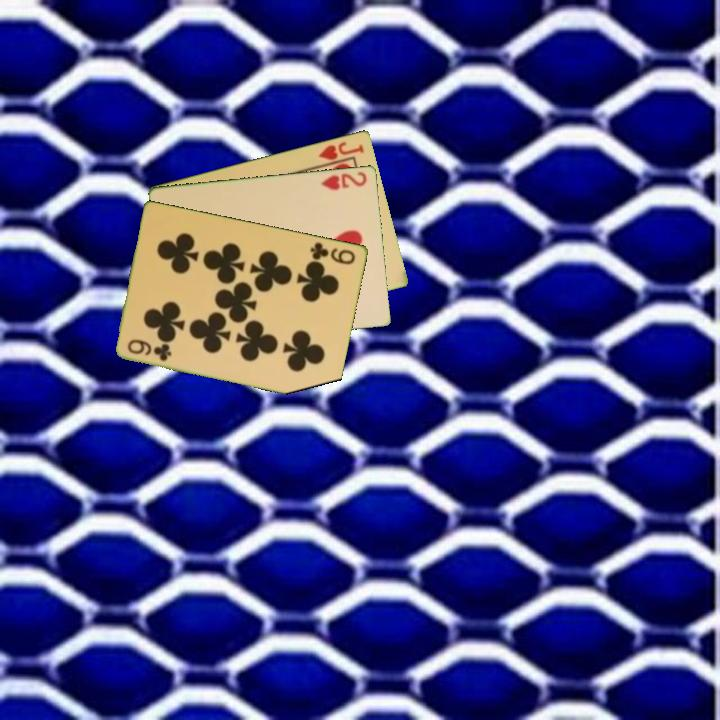2h: (318, 168, 370, 193)
9c: (307, 238, 358, 267), (124, 335, 174, 364)
Jh: (315, 138, 367, 163)
